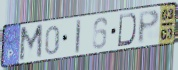0: (44, 25, 62, 56)
6: (91, 16, 108, 51)
D: (116, 12, 137, 48)
I: (74, 18, 82, 55)
M: (18, 22, 44, 63)
P: (138, 8, 161, 45)
